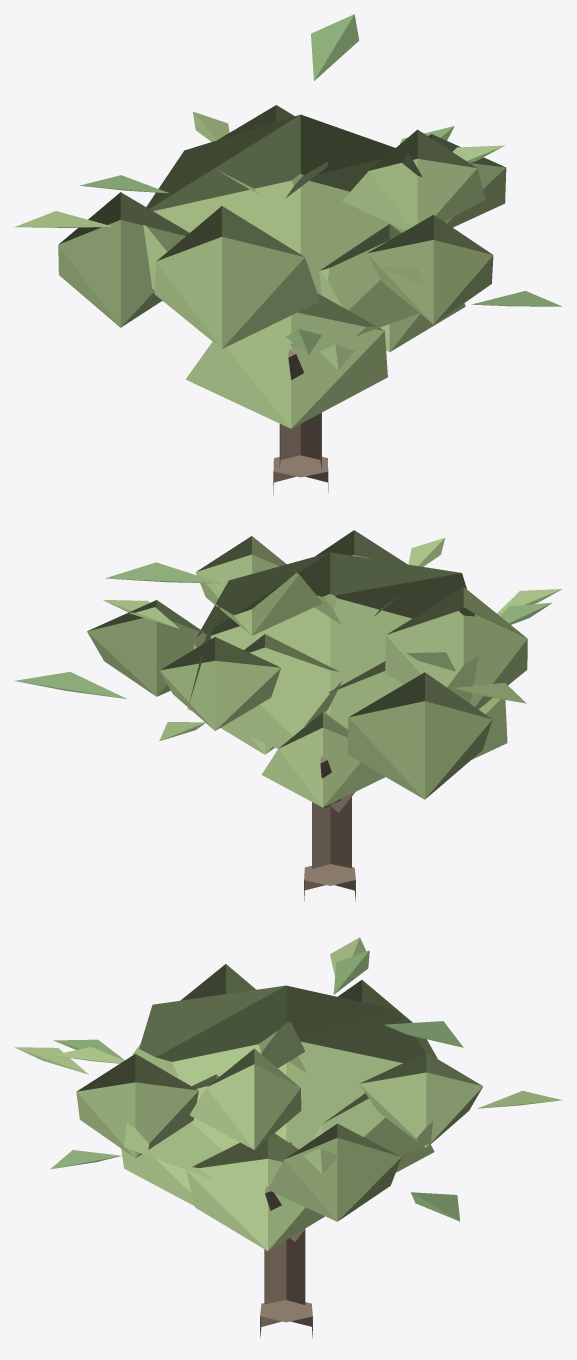
File: shu.ganju@subadult__bloom.glb
3 views of the same model, one above another, from view 1: azimuth 30°, elevation 25°; view 2: azimuth 150°, elevation 25°; view 3: azimuth 270°, elevation 25° (orthographic). The views are drawn at different scales.
Parts seen in each view (by area): view 1: shu.ganju@subadult__bloom; view 2: shu.ganju@subadult__bloom; view 3: shu.ganju@subadult__bloom.
Part boxes in pixels (x1,y1,x2,y2): shu.ganju@subadult__bloom: (14, 14, 562, 494); shu.ganju@subadult__bloom: (14, 530, 561, 901); shu.ganju@subadult__bloom: (15, 937, 562, 1338).
Size of the model in its own units: 3.91 by 2.82 by 3.95.
